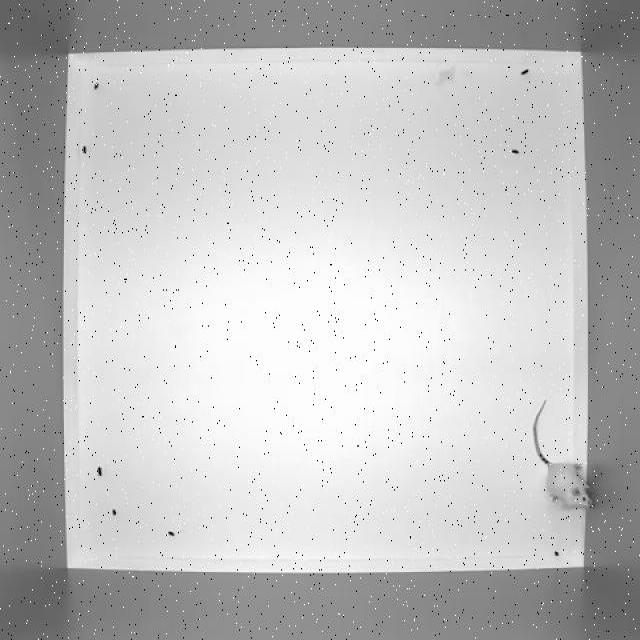rat: (528, 395, 594, 514)
